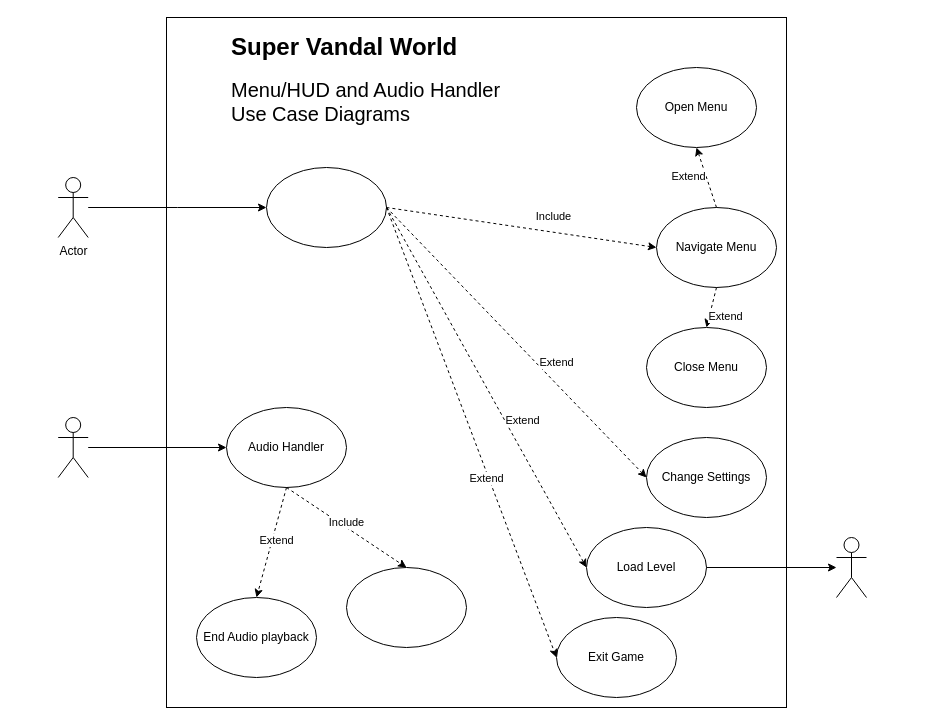
The diagram is 926 pixels wide and 725 high, and some of its shapes have lost their labels. The centre of each missing label's shape, as x and y in pixels:
"Environment Handler" belongs at (x=851, y=567).
"Menu Handler" belongs at (x=326, y=207).
"playback Audio File" belongs at (x=406, y=607).
"Player Handler Player Movement Pickup Handler Enemy Handler Environment Handler" belongs at (x=72, y=447).
